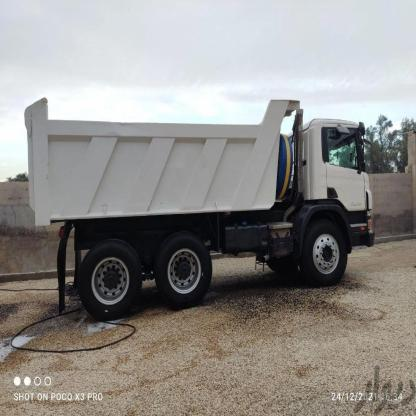Truck: (26, 88, 378, 297)
